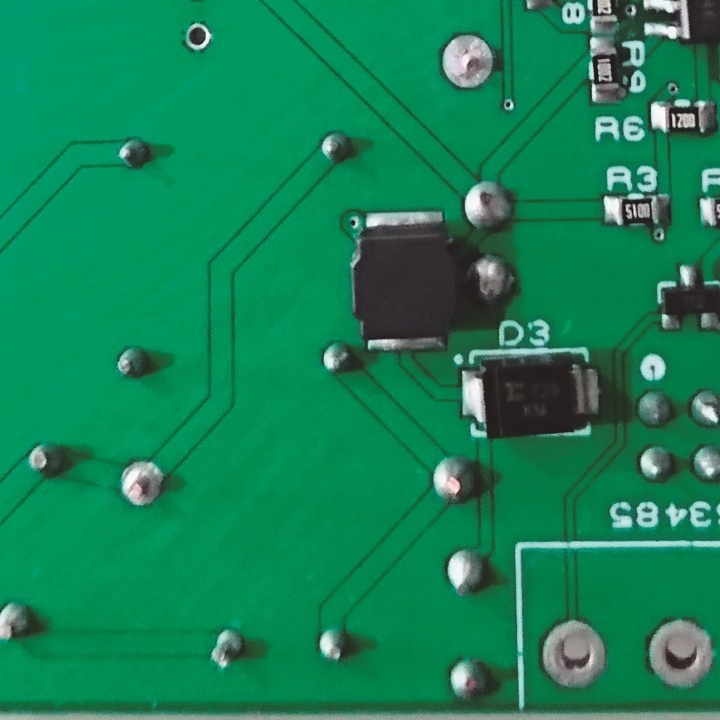F: (643, 613, 716, 692), (537, 615, 608, 693), (439, 28, 498, 96), (116, 455, 167, 512), (178, 17, 214, 55)
